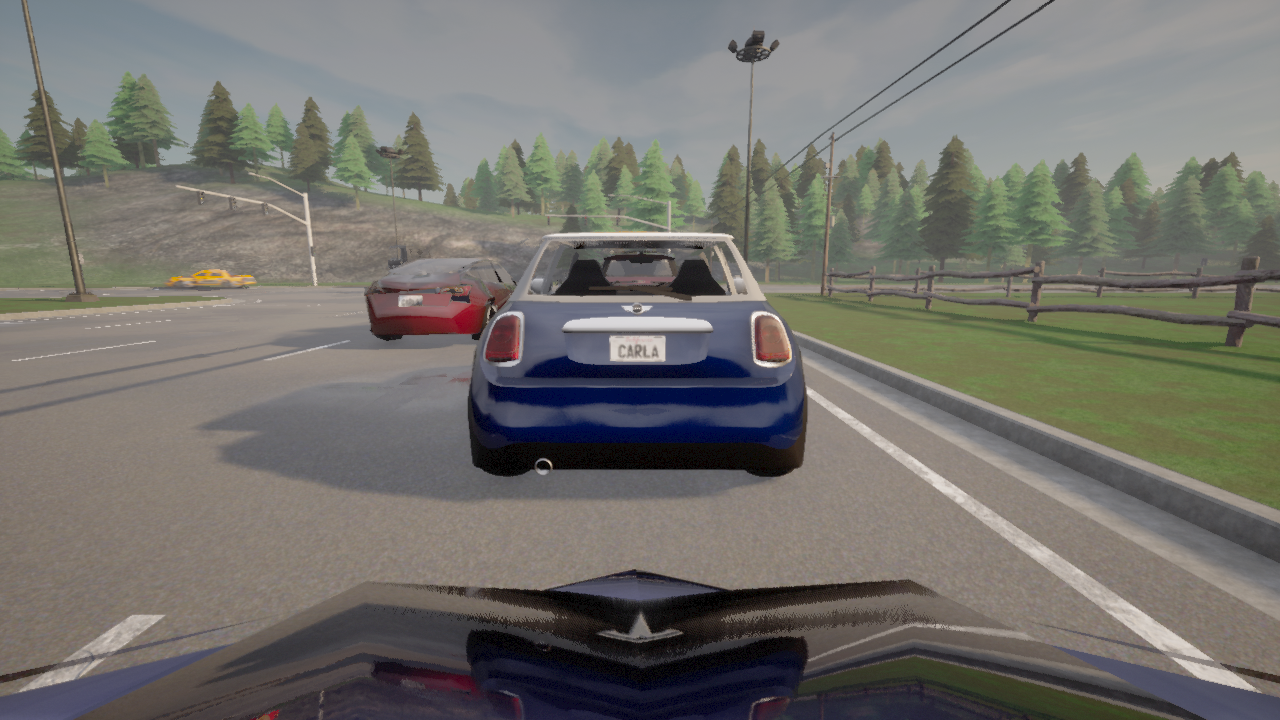cyclist: (0, 569, 1279, 719), (467, 232, 807, 476), (364, 258, 519, 340), (163, 269, 255, 289), (387, 244, 431, 272)
